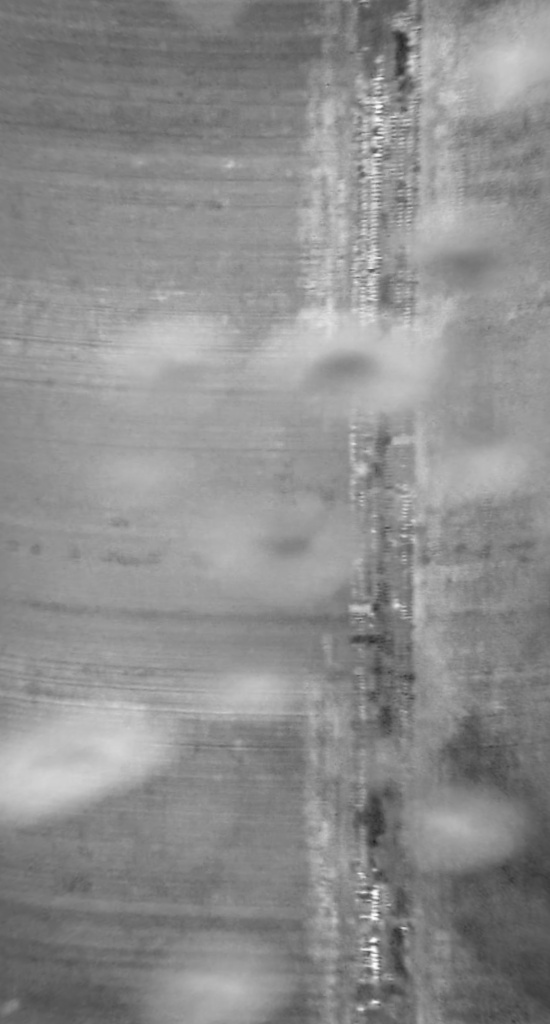splice: (332, 1, 429, 1021)
